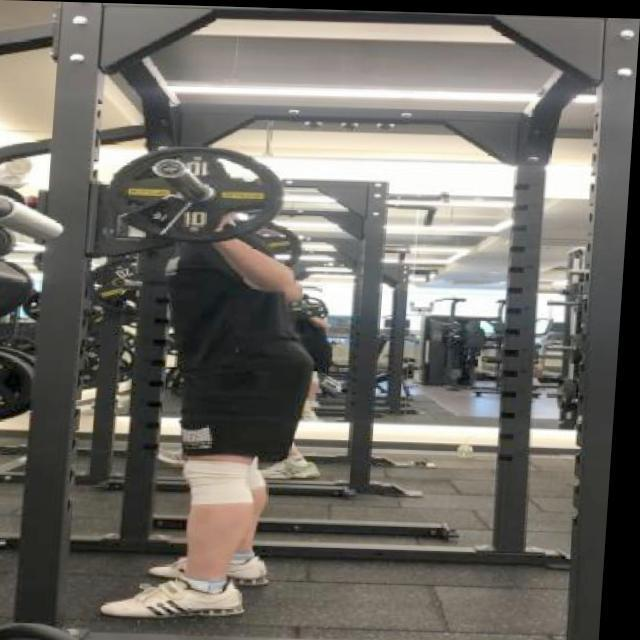barbell: (110, 138, 294, 249)
